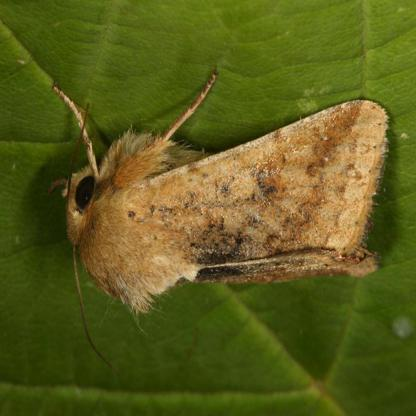helicoverpa: (50, 69, 388, 364)
